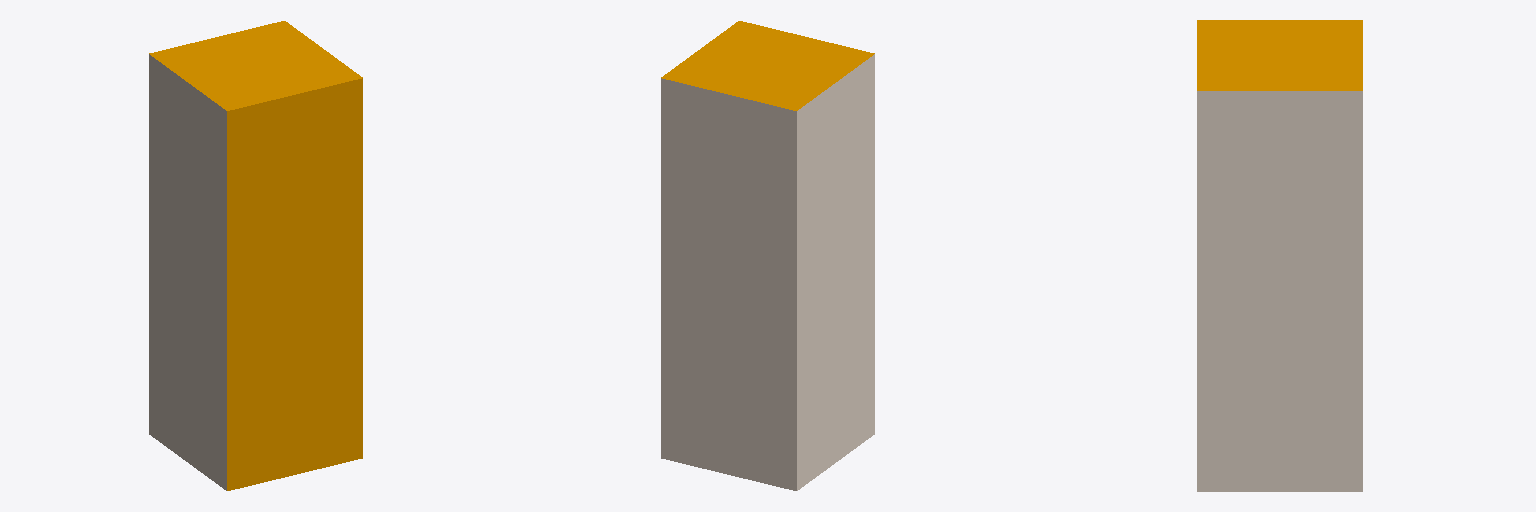
The robot description file, URDF, robot "kingW":
<?xml version='1.0' encoding='UTF-8'?>

<robot name="kingW">

    <link name="base">
        <visual>
            <origin xyz="0 0 0" rpy="0 0 0" />
            <geometry>
                <mesh filename="meshes/kingW.dae" scale="1.0 1.0 1.0"/>
            </geometry>
        </visual>
        <collision>
            <origin xyz="0 0 0" rpy="0 0 0" />
            <geometry>
                <box size="0.03 0.03 0.08" />
            </geometry>
        </collision>
    </link>

</robot>

--- Render facts (derived) ---
The picture shows the robot from 3 angles, left to right: view 1: azimuth 30°, elevation 25°; view 2: azimuth 150°, elevation 25°; view 3: azimuth 270°, elevation 25°; orthographic projection.
Model kingW with 1 links and 0 joints (none), rooted at base, posed all joints at 0.
Links seen in each view (by area): view 1: base; view 2: base; view 3: base.
Boxes of the visible links, x1,y1,x2,y2 form: base: (149, 21, 362, 490); base: (661, 21, 874, 490); base: (1197, 20, 1362, 491).
Bounding box of the posed robot: 0.03 × 0.03 × 0.08 m (x, y, z).
Meshes: 1 distinct files referenced, 1 mesh visuals loaded (1 Collada DAE).
